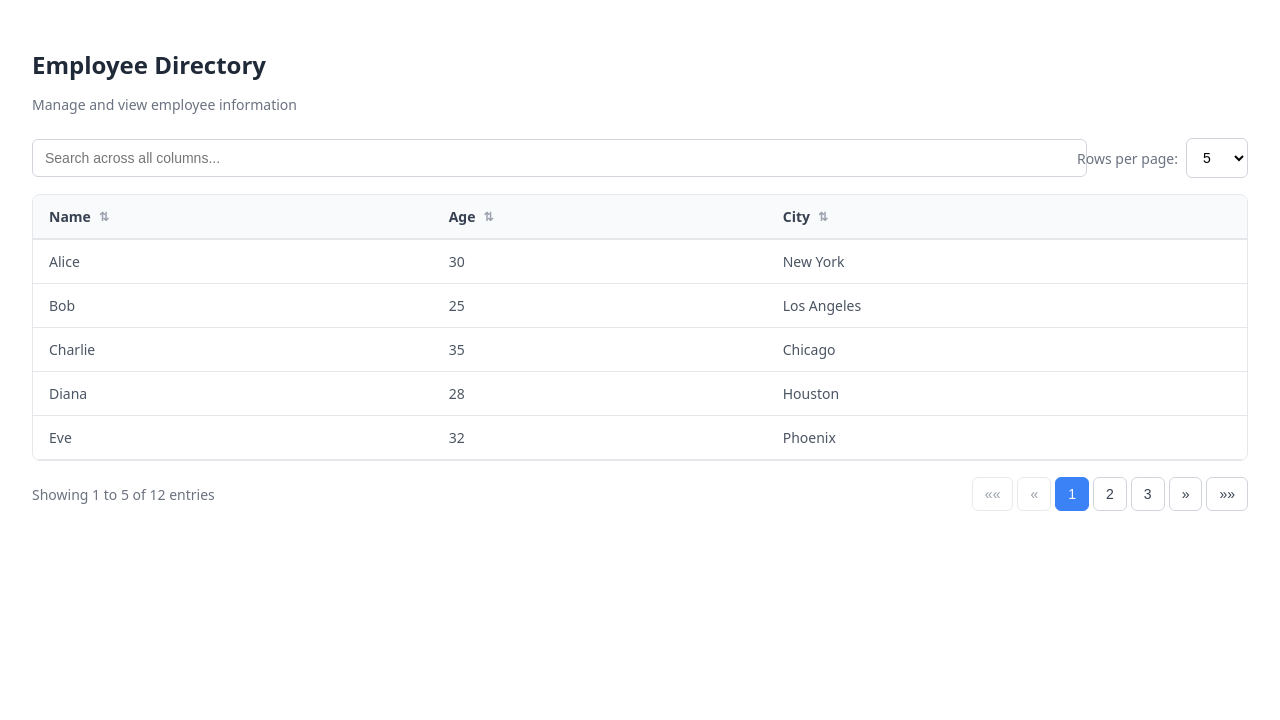
Test: DataTable Component › Pagination › resets to page 1 when page size changes
Click the button with test id "page-btn-2" at (1110, 494), box [1093,477,1127,511]
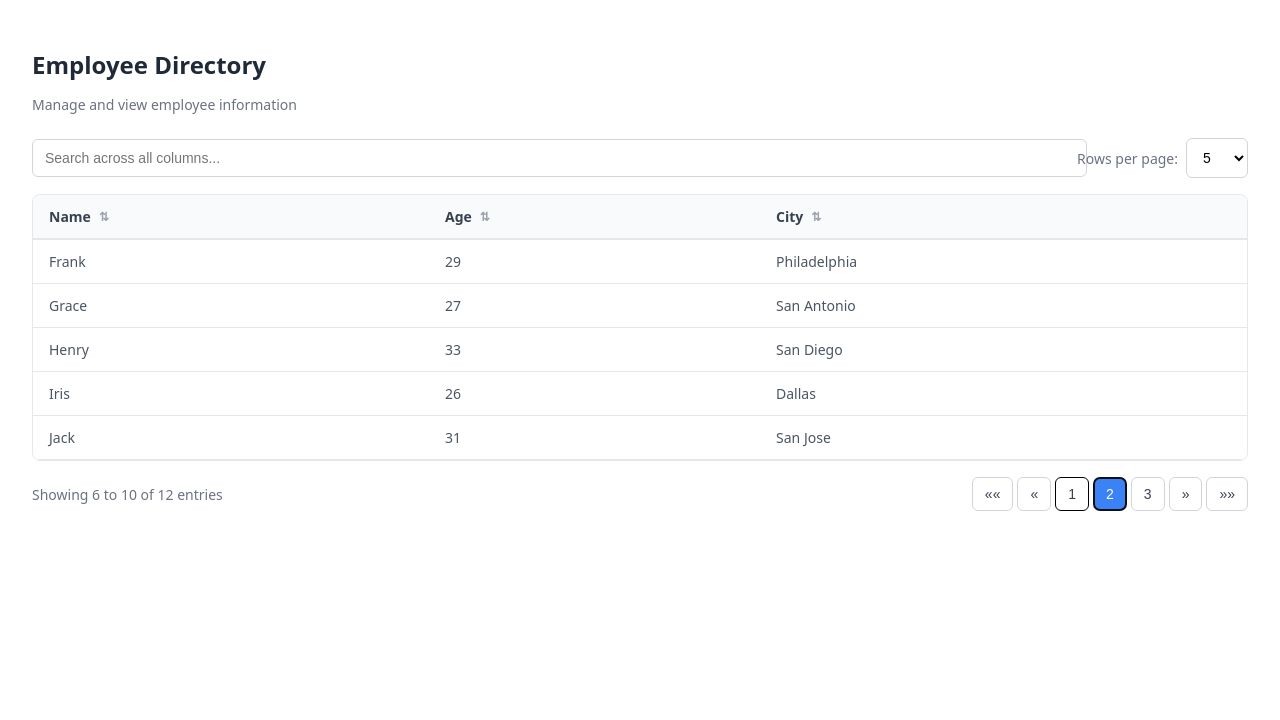
Select "10" in the dropdown with test id "page-size-select" at (1217, 158), box [1186,138,1248,178]
(page scrolled)
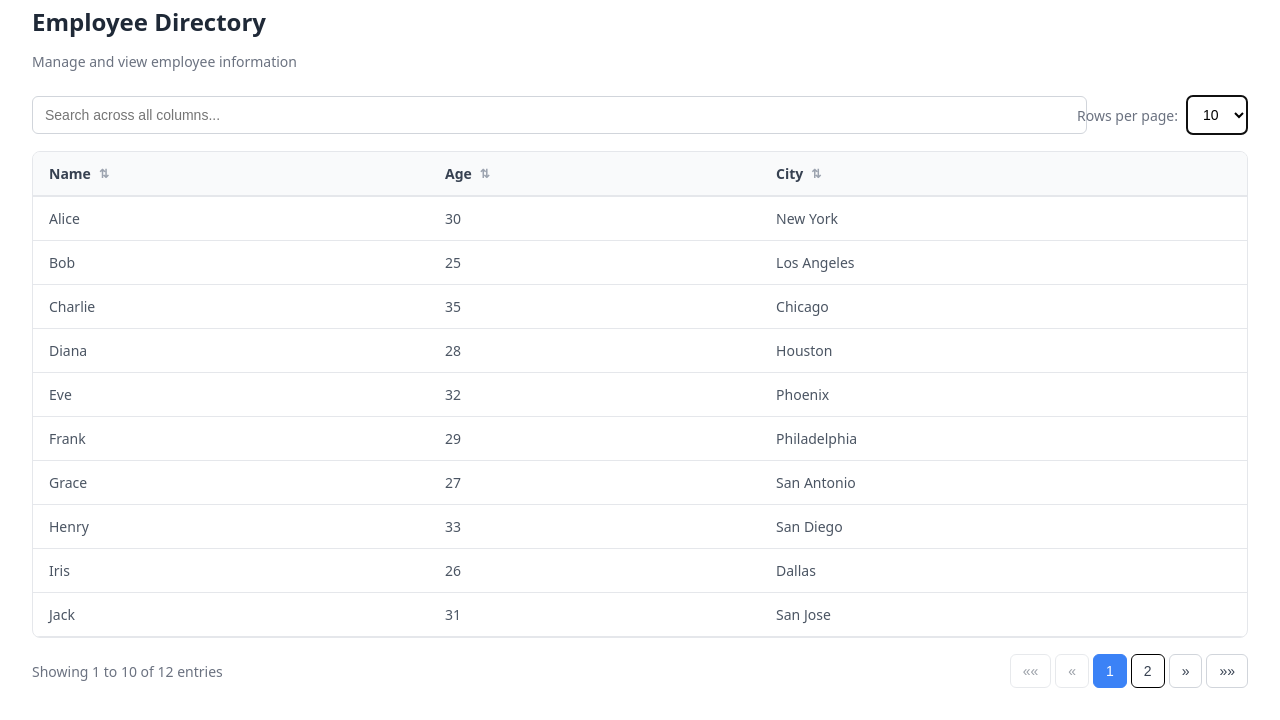
Check: the text with test id "page-info" shows "Showing 1 to", box [32,662,223,681]
